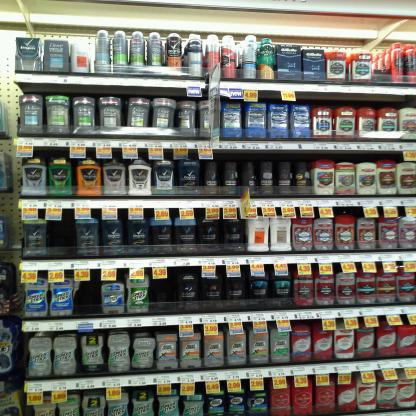Void: (52, 220, 74, 261), (153, 278, 179, 312), (80, 283, 98, 316)
